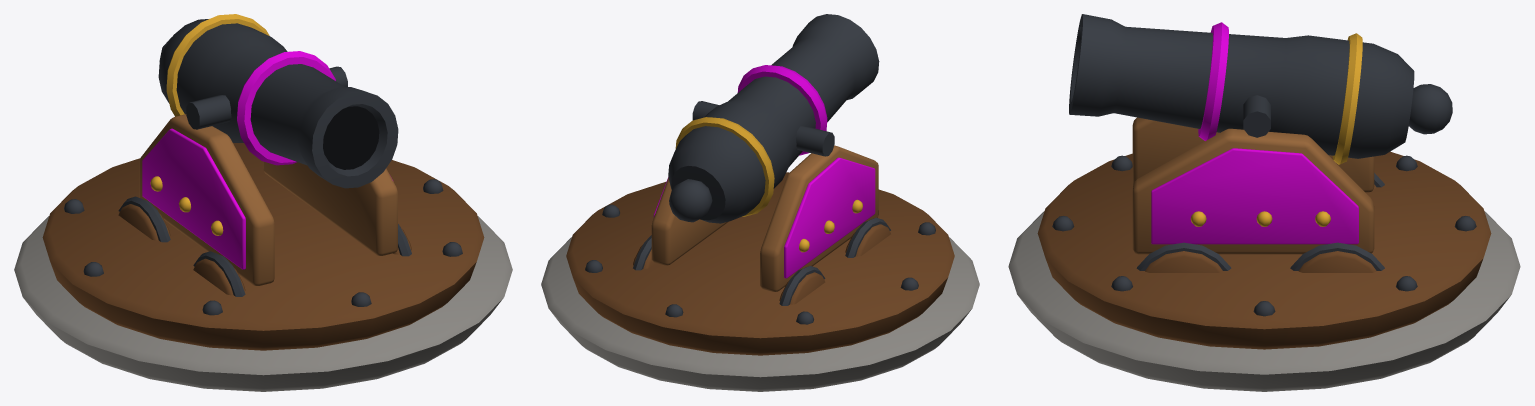
The model's file is canhao.glb.
3 views of the same model, side by side, from view 1: azimuth 30°, elevation 25°; view 2: azimuth 150°, elevation 25°; view 3: azimuth 270°, elevation 25° (orthographic). The views are drawn at different scales.
Parts seen in each view (by area): view 1: base, giro, cano; view 2: base, cano, giro; view 3: base, cano, giro.
Part boxes in pixels (left/top/right/bottom): base: left=14, top=143, right=512, bottom=391; giro: left=118, top=66, right=411, bottom=296; cano: left=158, top=14, right=398, bottom=188; base: left=541, top=172, right=979, bottom=391; cano: left=668, top=14, right=879, bottom=223; giro: left=633, top=101, right=890, bottom=305; base: left=1008, top=151, right=1520, bottom=391; cano: left=1069, top=14, right=1452, bottom=164; giro: left=1132, top=95, right=1384, bottom=272.
Size of the model in its own units: 1.4 by 0.8462 by 1.4.
